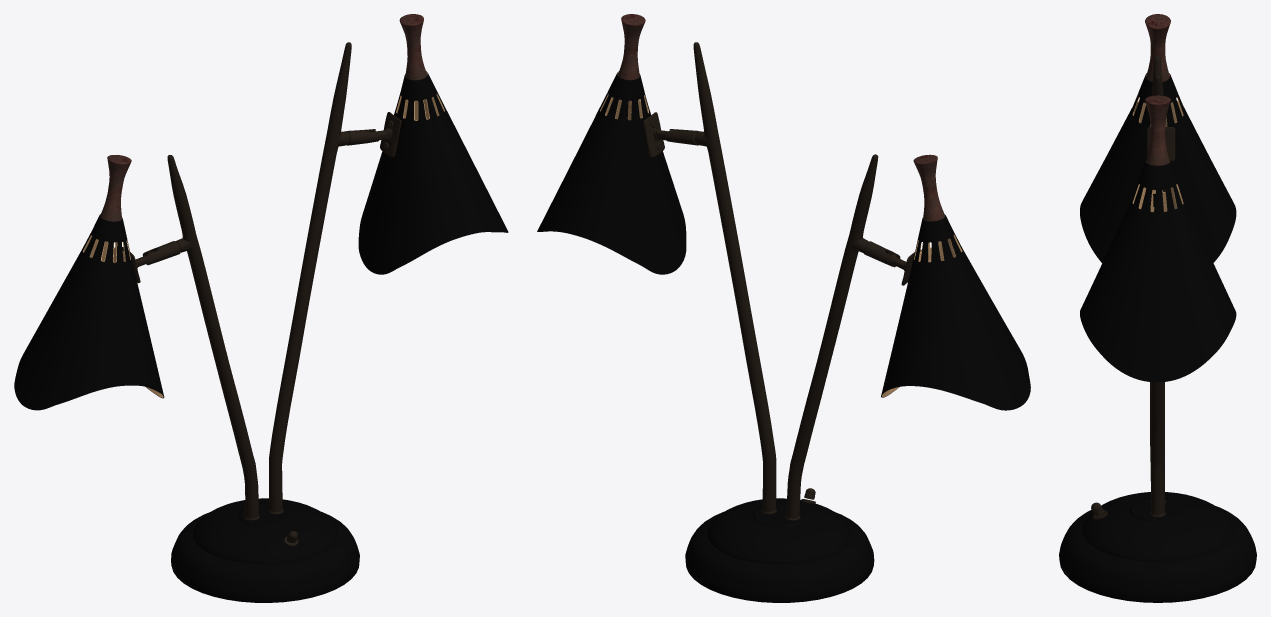
Rendered from IVBX2760_v6_LOD2.obj.
3 renders of one model, left to right at view 1: azimuth 30°, elevation 25°; view 2: azimuth 150°, elevation 25°; view 3: azimuth 270°, elevation 25°, orthographic. The views are drawn at different scales.
Visible parts, largest first — view 1: not_clear_obj_1_v6, not_clear_obj_3_v6, not_clear_obj_0_v6, not_clear_obj_2_v6; view 2: not_clear_obj_1_v6, not_clear_obj_3_v6, not_clear_obj_0_v6, not_clear_obj_2_v6; view 3: not_clear_obj_1_v6, not_clear_obj_3_v6, not_clear_obj_0_v6, not_clear_obj_2_v6.
Boxes of the visible parts, box(x1,y1,x2,y2) form: not_clear_obj_1_v6: box(14, 71, 508, 602); not_clear_obj_3_v6: box(122, 42, 401, 520); not_clear_obj_0_v6: box(100, 14, 427, 221); not_clear_obj_2_v6: box(83, 72, 444, 397); not_clear_obj_1_v6: box(537, 71, 1030, 602); not_clear_obj_3_v6: box(643, 42, 921, 520); not_clear_obj_0_v6: box(618, 14, 944, 221); not_clear_obj_2_v6: box(600, 72, 962, 397); not_clear_obj_1_v6: box(1059, 73, 1256, 602); not_clear_obj_3_v6: box(1147, 55, 1175, 517); not_clear_obj_0_v6: box(1145, 14, 1170, 165); not_clear_obj_2_v6: box(1132, 74, 1183, 211).
Size of what is drawn, in the model's own units: 53.64 by 54.97 by 18.3.
5 materials, 1 textured.
